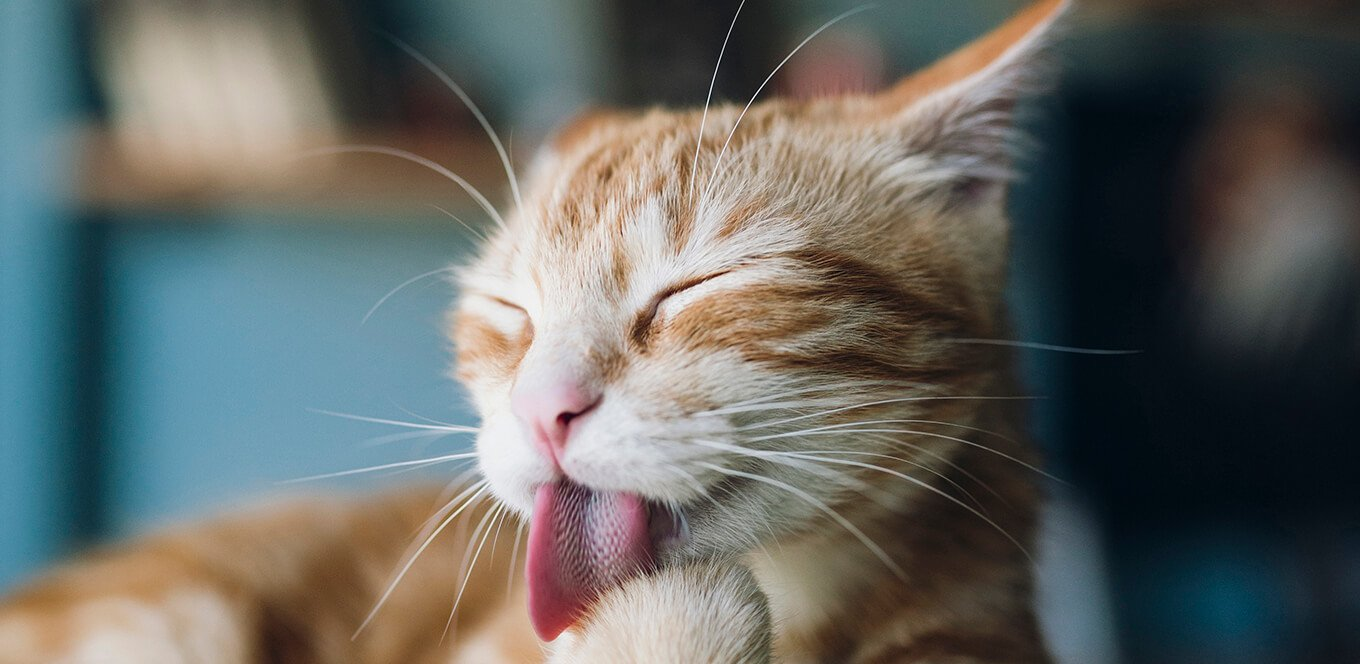cat: (426, 43, 1049, 650)
